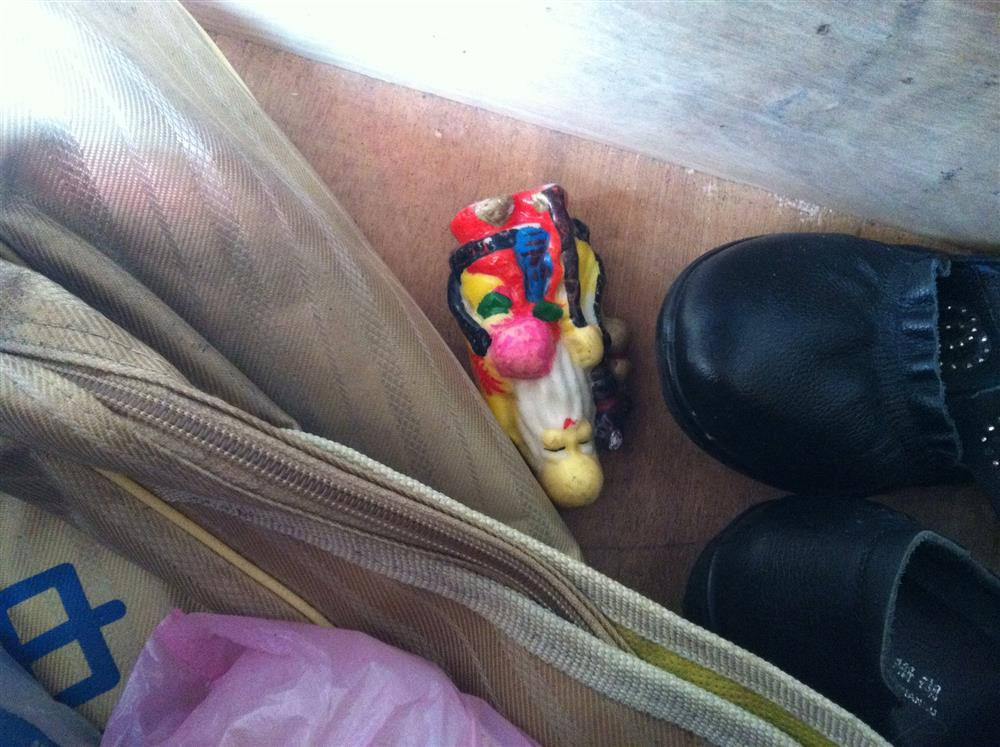oldman_candle: (443, 184, 637, 506)
